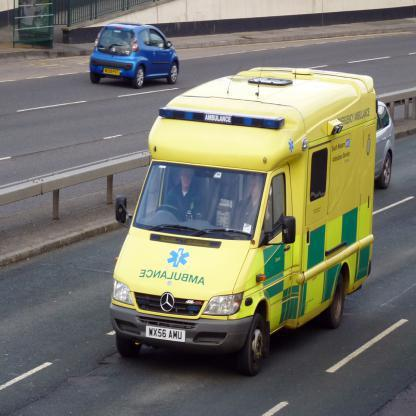Ambulance - v1 Ambulance last generate: (107, 64, 378, 375)
